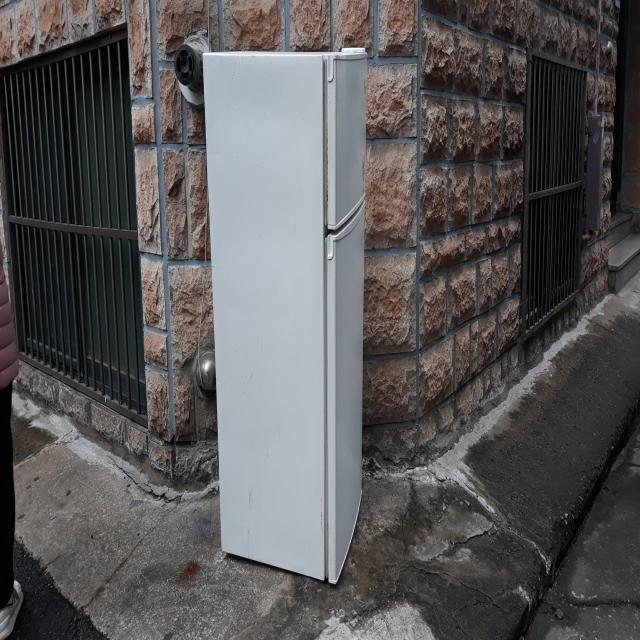refrigerator: (202, 44, 368, 585)
